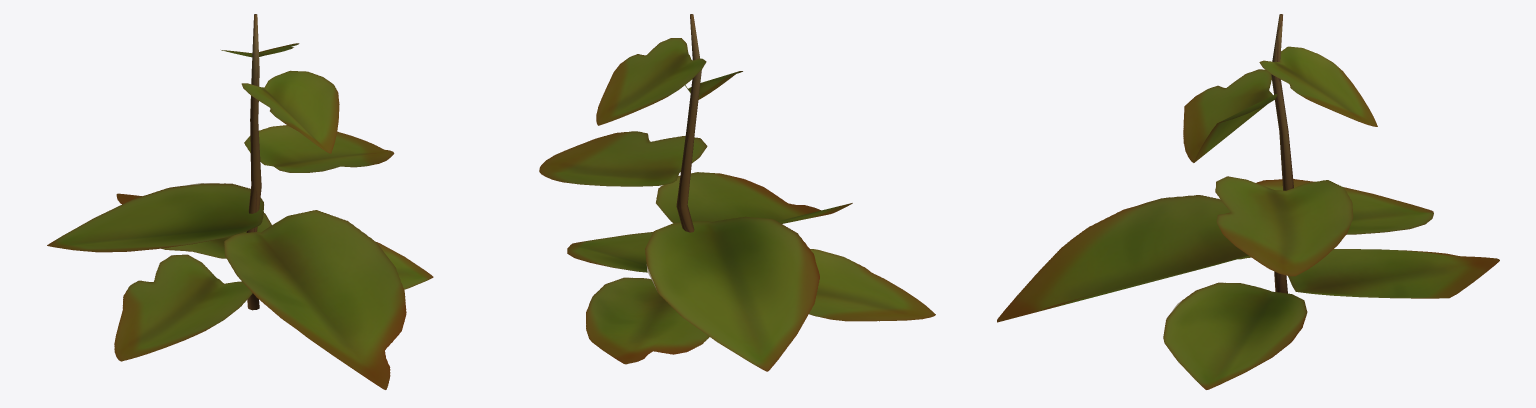
Rendered from SM_plant.fbx.
3 views of the same model, side by side, from view 1: azimuth 30°, elevation 25°; view 2: azimuth 150°, elevation 25°; view 3: azimuth 270°, elevation 25° (orthographic). The views are drawn at different scales.
Parts seen in each view (by area): view 1: green_leaf_2.001, green_leaf_1.001, green_leaf_3.002, green_leaf_3.004, green_leaf_3.001, Cylinder.001, green_leaf_2.002, green_leaf_1.002; view 2: green_leaf_1.001, green_leaf_2.002, green_leaf_3.001, green_leaf_3.002, green_leaf_2.001, green_leaf_3.003, green_leaf_1.002, Cylinder.001, green_leaf_3.004; view 3: green_leaf_2.001, green_leaf_1.002, green_leaf_3.001, green_leaf_2.002, green_leaf_3.004, green_leaf_3.003, green_leaf_1.001, Cylinder.001.
Part boxes in pixels (box(x1,y1,x2,y2)): green_leaf_2.001: box(224, 210, 406, 389); green_leaf_1.001: box(47, 183, 263, 252); green_leaf_3.002: box(114, 254, 252, 361); green_leaf_3.004: box(241, 70, 339, 153); green_leaf_3.001: box(244, 125, 394, 172); Cylinder.001: box(246, 14, 261, 310); green_leaf_2.002: box(116, 193, 271, 258); green_leaf_1.002: box(376, 242, 433, 289); green_leaf_1.001: box(645, 216, 819, 371); green_leaf_2.002: box(586, 277, 709, 364); green_leaf_3.001: box(539, 131, 707, 186); green_leaf_3.002: box(809, 249, 935, 321); green_leaf_2.001: box(656, 172, 852, 223); green_leaf_3.003: box(596, 38, 706, 125); green_leaf_1.002: box(567, 232, 652, 272); Cylinder.001: box(676, 14, 701, 232); green_leaf_3.004: box(685, 71, 742, 99); green_leaf_2.001: box(997, 195, 1248, 322); green_leaf_1.002: box(1163, 282, 1307, 389); green_leaf_3.001: box(1215, 176, 1353, 276); green_leaf_2.002: box(1288, 249, 1499, 298); green_leaf_3.004: box(1183, 69, 1277, 162); green_leaf_3.003: box(1259, 46, 1377, 126); green_leaf_1.001: box(1256, 179, 1433, 234); Cylinder.001: box(1271, 14, 1293, 293).
Size of the model in its own units: 43.3 by 32.35 by 49.41.
2 materials, 2 textured.
